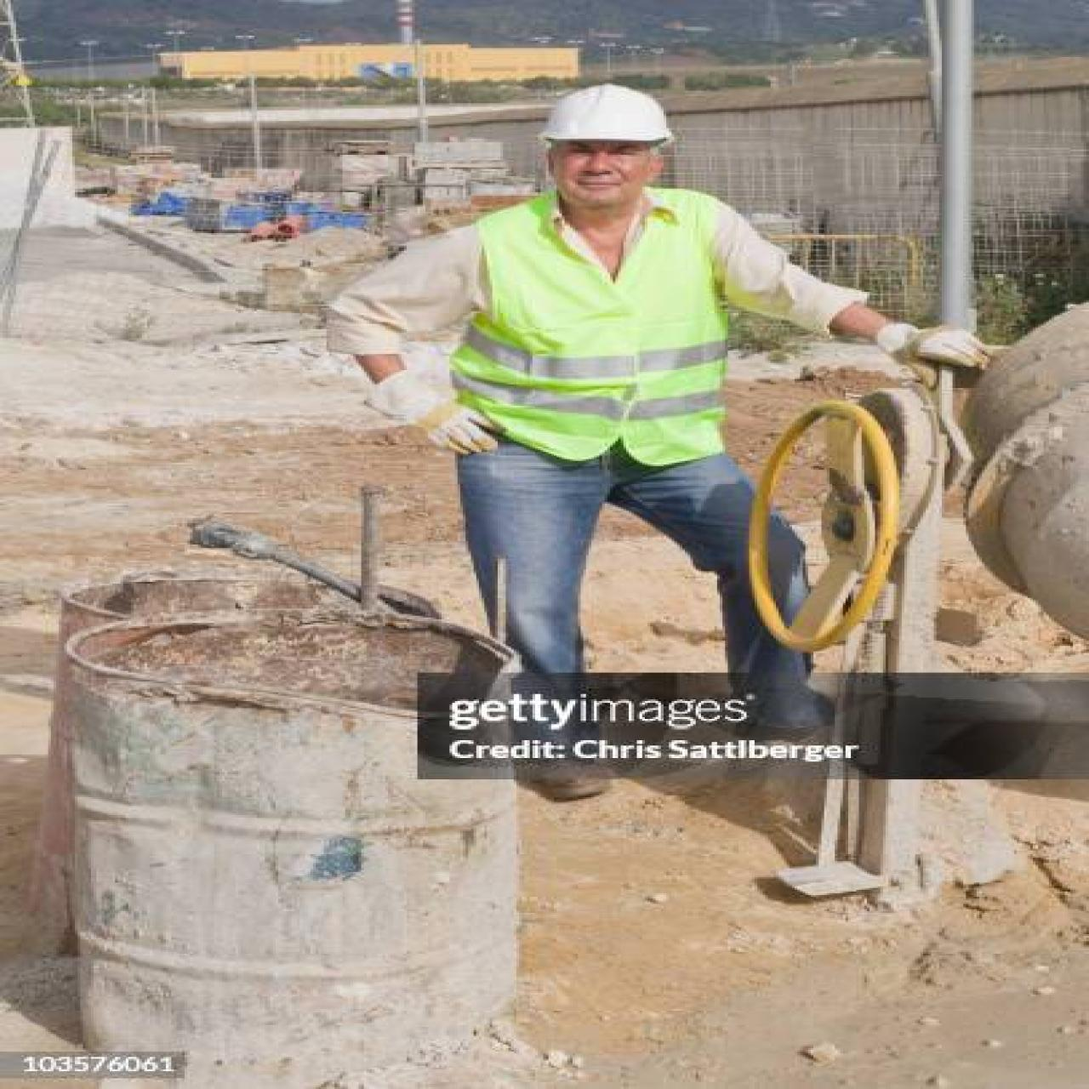Person: (300, 61, 992, 801)
Safety_Vest: (434, 192, 770, 469)
